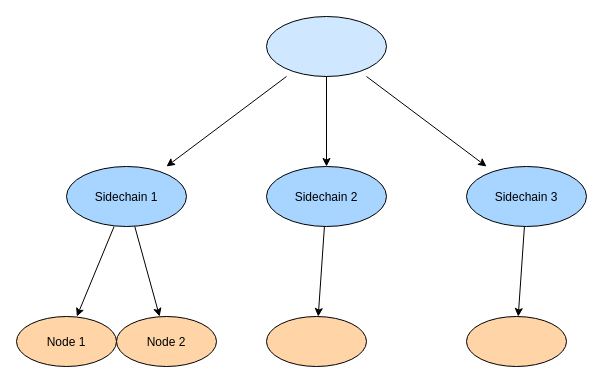
The diagram is 603 pixels wide and 383 high, and some of its shapes have lost their labels. The shapes that lost their labels are listed below. From the top down, each one's centre as x and y in pixels, then its label:
the point at 326,46: Master Chain
the point at 316,341: Node 3
the point at 516,341: Node 4
